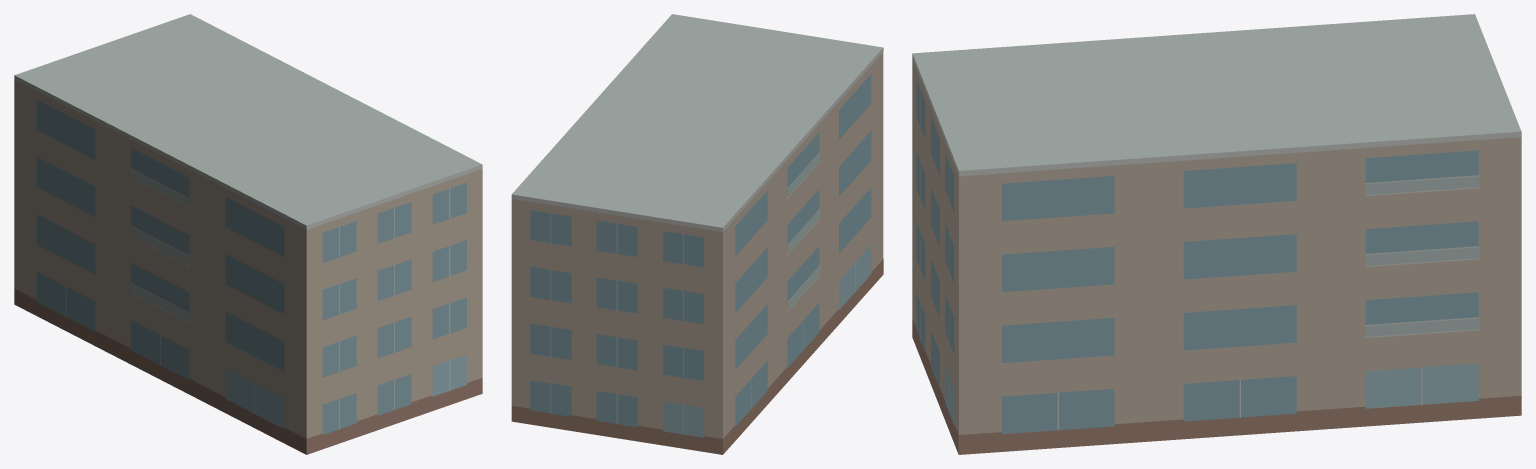
Rendered from survey-upis-32473030.glb.
3 views of the same model, side by side, from view 1: azimuth 30°, elevation 25°; view 2: azimuth 150°, elevation 25°; view 3: azimuth 270°, elevation 25° (orthographic). The views are drawn at different scales.
Visible parts, largest first — view 1: survey-upis-32473030.tmp; view 2: survey-upis-32473030.tmp; view 3: survey-upis-32473030.tmp.
Part boxes in pixels (x1,y1,x2,y2): survey-upis-32473030.tmp: (14,14,482,454); survey-upis-32473030.tmp: (511,14,883,454); survey-upis-32473030.tmp: (912,14,1521,454).
Bounding box in the file's own units: 15.23 × 12.84 × 24.98.
